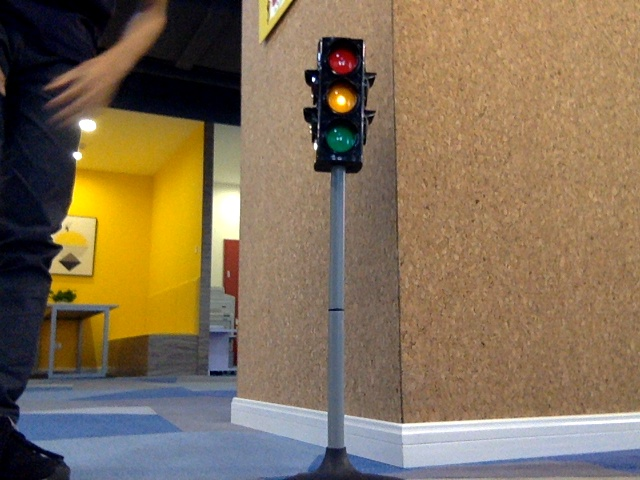yellow: (324, 47, 356, 153)
